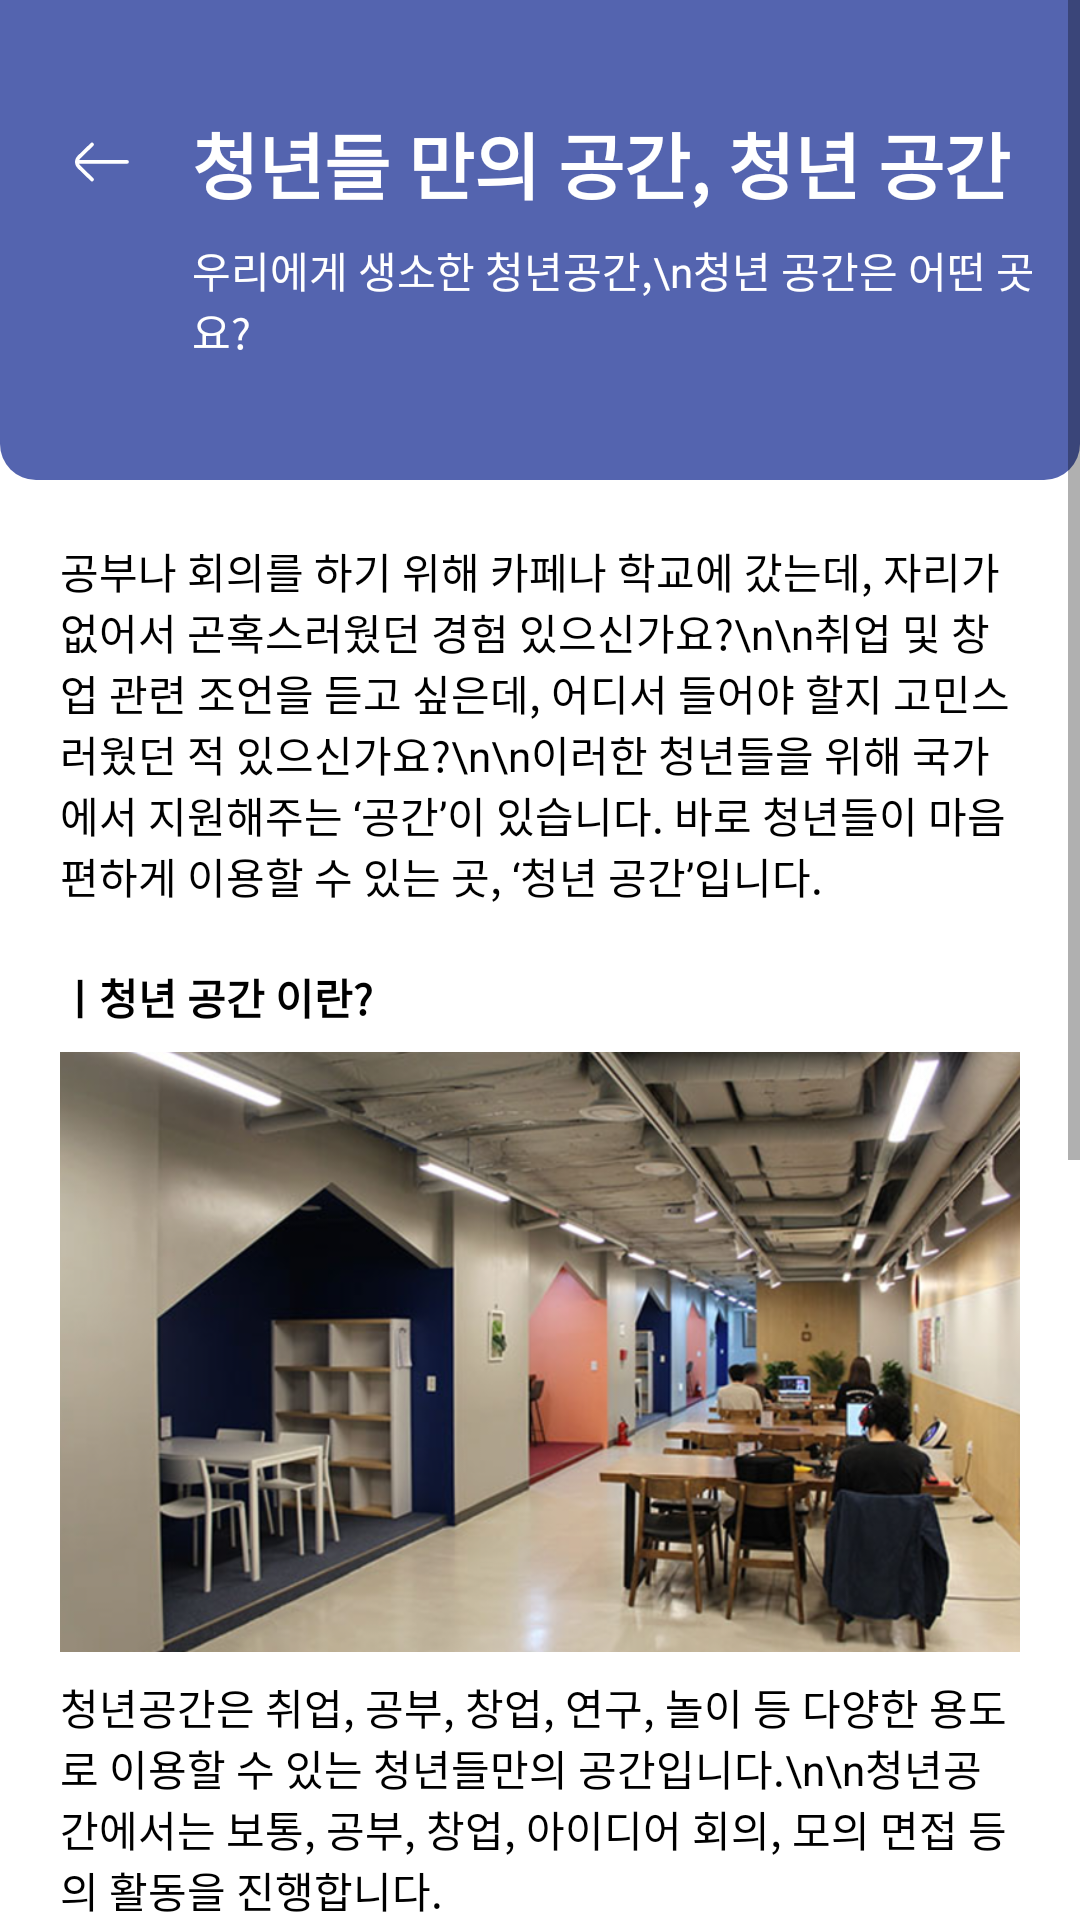

Icons on this 1080 × 1920 Android screen, each with the point to tap as (x,y):
back: (102,162)
